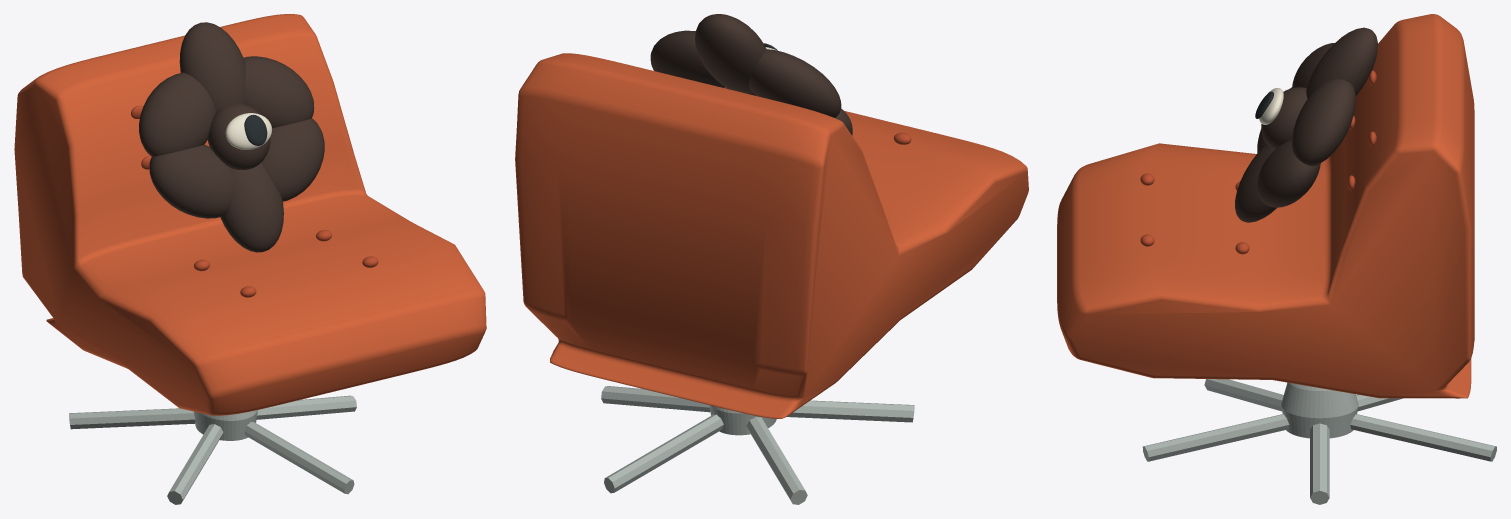
The model's file is dyvlinge-dressed.glb.
3 renders of one model, left to right at view 1: azimuth 30°, elevation 25°; view 2: azimuth 150°, elevation 25°; view 3: azimuth 270°, elevation 25°, orthographic. The views are drawn at different scales.
Parts seen in each view (by area): view 1: dyvlinge-dressed; view 2: dyvlinge-dressed; view 3: dyvlinge-dressed.
Part boxes in pixels (box(x1,y1,x2,y2)): dyvlinge-dressed: box(14, 14, 486, 504); dyvlinge-dressed: box(515, 14, 1028, 504); dyvlinge-dressed: box(1057, 14, 1496, 504).
Size of the model in its own units: 0.63 by 0.7747 by 0.75.
